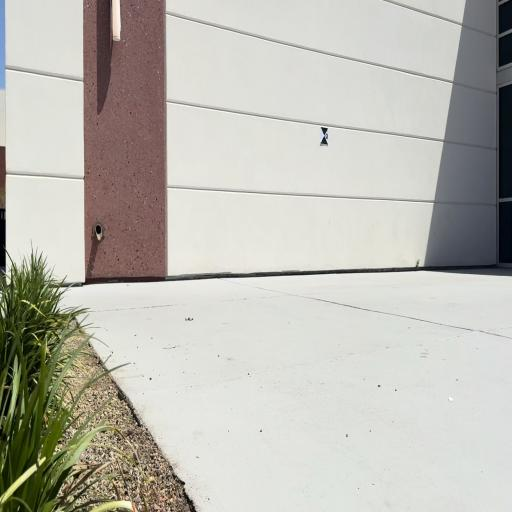target0: (320, 125, 328, 145)
